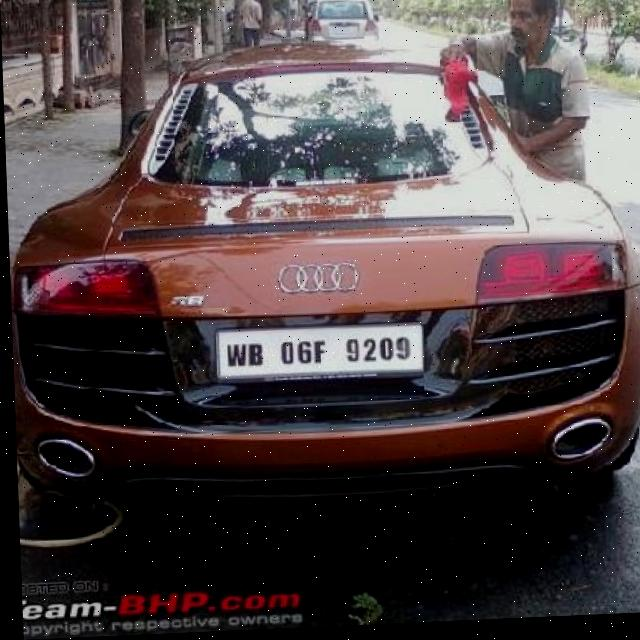plate: (210, 321, 422, 387)
